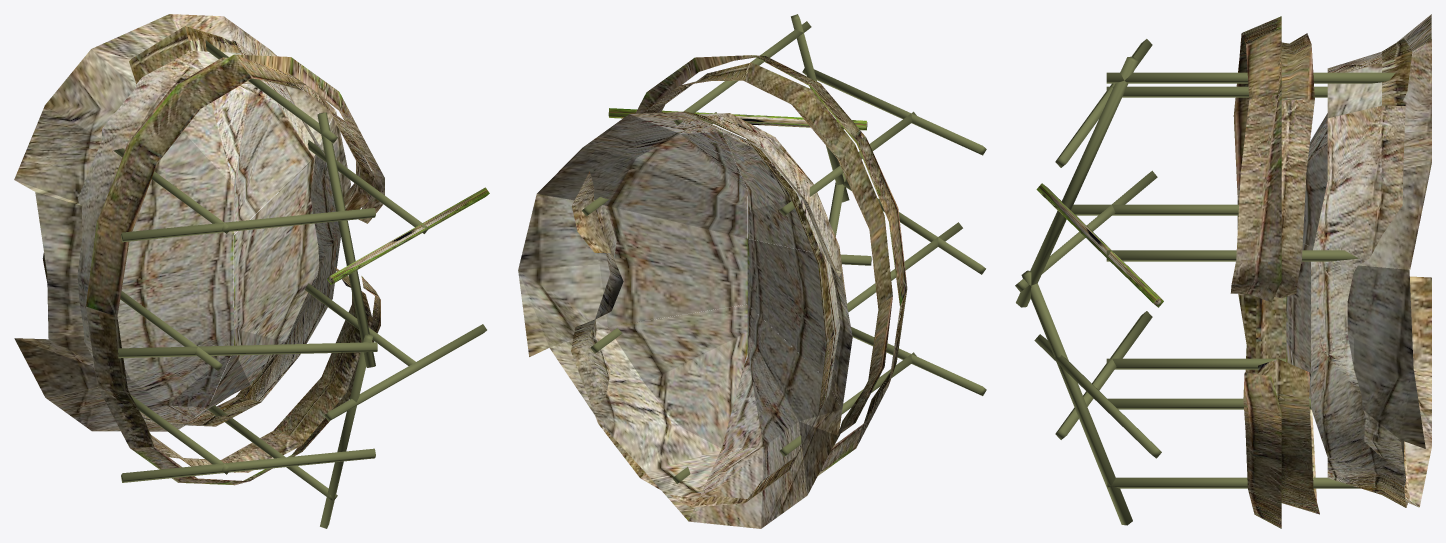
File: hut_000021.obj
3 views of the same model, side by side, from view 1: azimuth 30°, elevation 25°; view 2: azimuth 150°, elevation 25°; view 3: azimuth 270°, elevation 25° (orthographic). The views are drawn at different scales.
Parts seen in each view (by area): view 1: Sphere.002, Sphere.004, Sphere.003, Sphere.007, Sphere.008, Sphere.006, Sphere.005, Sphere.001, Sphere, Cylinder.008_Cylinder.010, Cylinder.012_Cylinder.013, Cylinder.013_Cylinder.014 (+11 smaller); view 2: Sphere.005, Sphere, Sphere.008, Sphere.006, Sphere.003, Sphere.001, Sphere.007, Sphere.002, Sphere.004, Cylinder.013_Cylinder.014, Cylinder.012_Cylinder.013, Cylinder.010_Cylinder.011 (+6 smaller); view 3: Sphere.003, Sphere.002, Sphere.001, Sphere.005, Sphere.006, Sphere.008, Cylinder.009, Cylinder.007, Cylinder.001, Sphere, Cylinder.004, Cylinder (+10 smaller).
Part boxes in pixels (x1,y1,x2,y2): Sphere.002: (86, 54, 384, 485); Sphere.004: (14, 14, 233, 234); Sphere.003: (42, 26, 340, 426); Sphere.007: (35, 192, 233, 339); Sphere.008: (14, 301, 233, 431); Sphere.006: (169, 14, 335, 234); Sphere.005: (234, 111, 350, 300); Sphere.001: (117, 57, 374, 472); Sphere: (179, 278, 316, 429); Cylinder.008_Cylinder.010: (118, 342, 377, 358); Cylinder.012_Cylinder.013: (121, 448, 375, 482); Cylinder.013_Cylinder.014: (121, 208, 375, 242); Sphere.005: (518, 194, 747, 356); Sphere: (549, 304, 747, 520); Sphere.008: (688, 305, 842, 528); Sphere.006: (537, 111, 747, 238); Sphere.003: (571, 111, 847, 507); Sphere.001: (639, 62, 892, 444); Sphere.007: (747, 239, 852, 408); Sphere.002: (635, 55, 907, 475); Sphere.004: (687, 113, 841, 276); Cylinder.013_Cylinder.014: (802, 68, 986, 155); Cylinder.012_Cylinder.013: (851, 327, 986, 395); Cylinder.010_Cylinder.011: (608, 108, 867, 130); Sphere.003: (1311, 38, 1412, 507); Sphere.002: (1230, 16, 1281, 528); Sphere.001: (1255, 33, 1319, 514); Sphere.005: (1286, 243, 1425, 448); Sphere.006: (1303, 39, 1431, 269); Sphere.008: (1405, 276, 1431, 507); Cylinder.009: (1016, 56, 1138, 307); Cylinder.007: (1021, 270, 1132, 525); Cylinder.001: (1106, 72, 1395, 83); Sphere: (1286, 311, 1418, 507); Cylinder.004: (1106, 250, 1359, 261); Cylinder: (1107, 477, 1360, 488).
Bounding box in the file's own units: 4.43 × 4.88 × 3.79.
